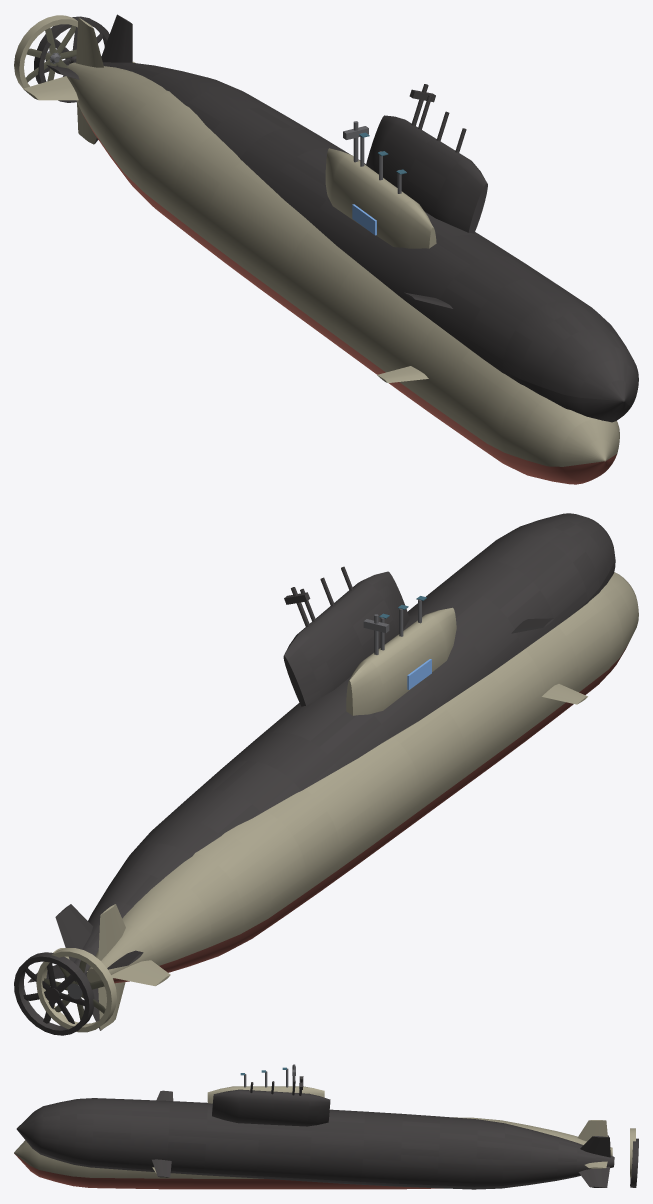
The model's file is submarine__astute_class.glb.
The picture shows the model from 3 angles, top to bottom: view 1: azimuth 30°, elevation 25°; view 2: azimuth 150°, elevation 25°; view 3: azimuth 270°, elevation 25°; orthographic projection. The views are drawn at different scales.
Parts seen in each view (by area): view 1: Hull_Mesh, Wreck; view 2: Hull_Mesh, Wreck; view 3: Wreck, Hull_Mesh.
Part boxes in pixels (x1,y1,x2,y2): Hull_Mesh: [14, 15, 619, 484]; Wreck: [34, 14, 638, 422]; Hull_Mesh: [36, 572, 638, 1032]; Wreck: [14, 513, 615, 1035]; Wreck: [16, 1076, 638, 1189]; Hull_Mesh: [14, 1067, 635, 1189].
Size of what is drawn, in the model's own units: 19.82 by 21.97 by 96.2.
